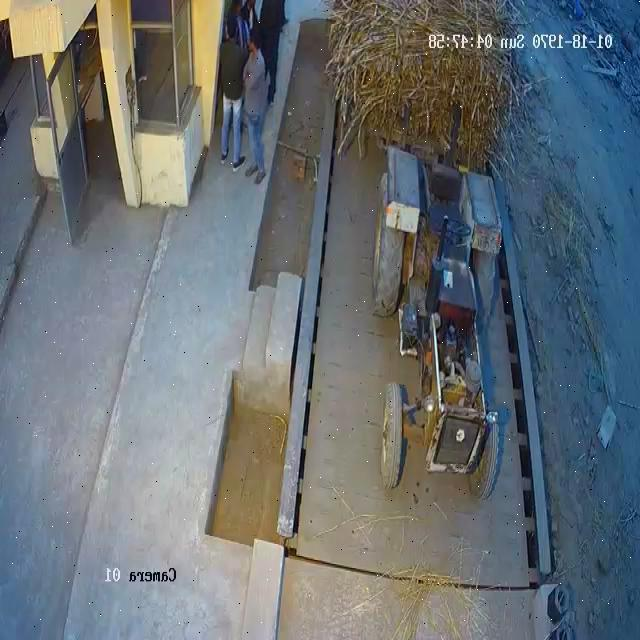Tratores - v5 YOLO V8L 2024-11-13: (377, 168, 499, 501)
